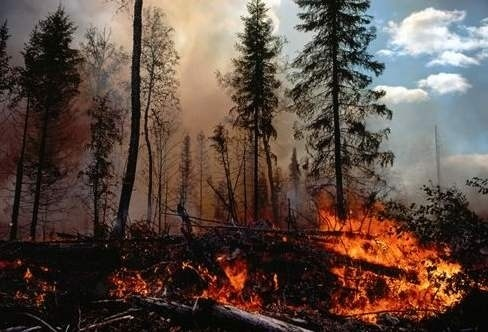fire: (318, 194, 470, 319), (187, 250, 268, 311), (108, 267, 158, 300)
